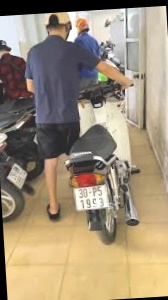Bien-so: (74, 184, 108, 213), (7, 162, 29, 190)
